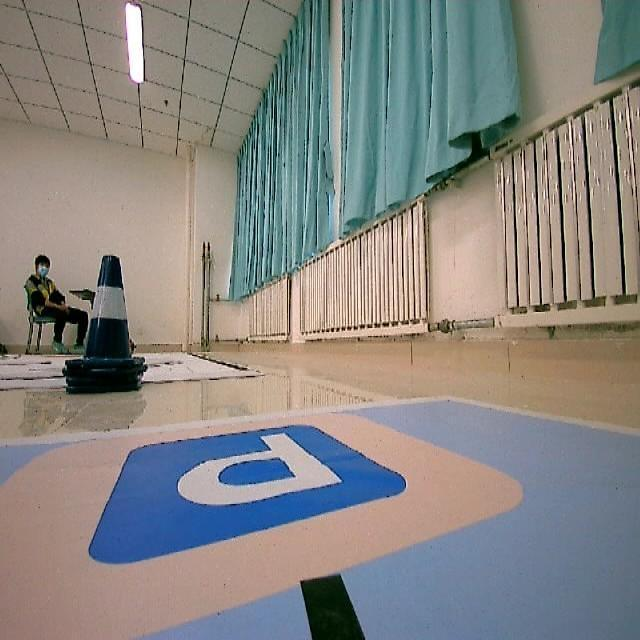obstacle: (64, 252, 155, 399)
